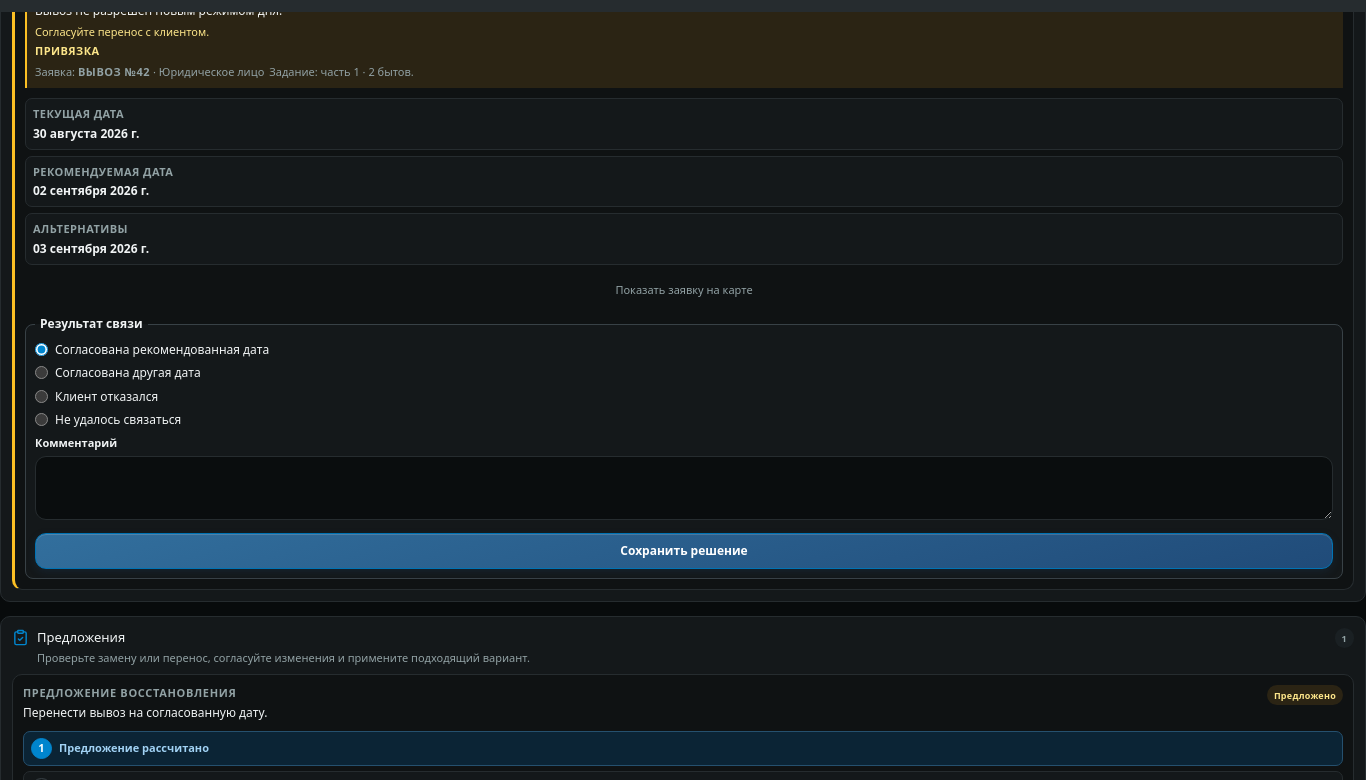
dispatcher decision queue › turns a rejection into a constraint and displays the refreshed proposal
(page scrolled)
Click the radio button labelled "Клиент отказался".
click(42, 396)  # box [35, 390, 48, 402]
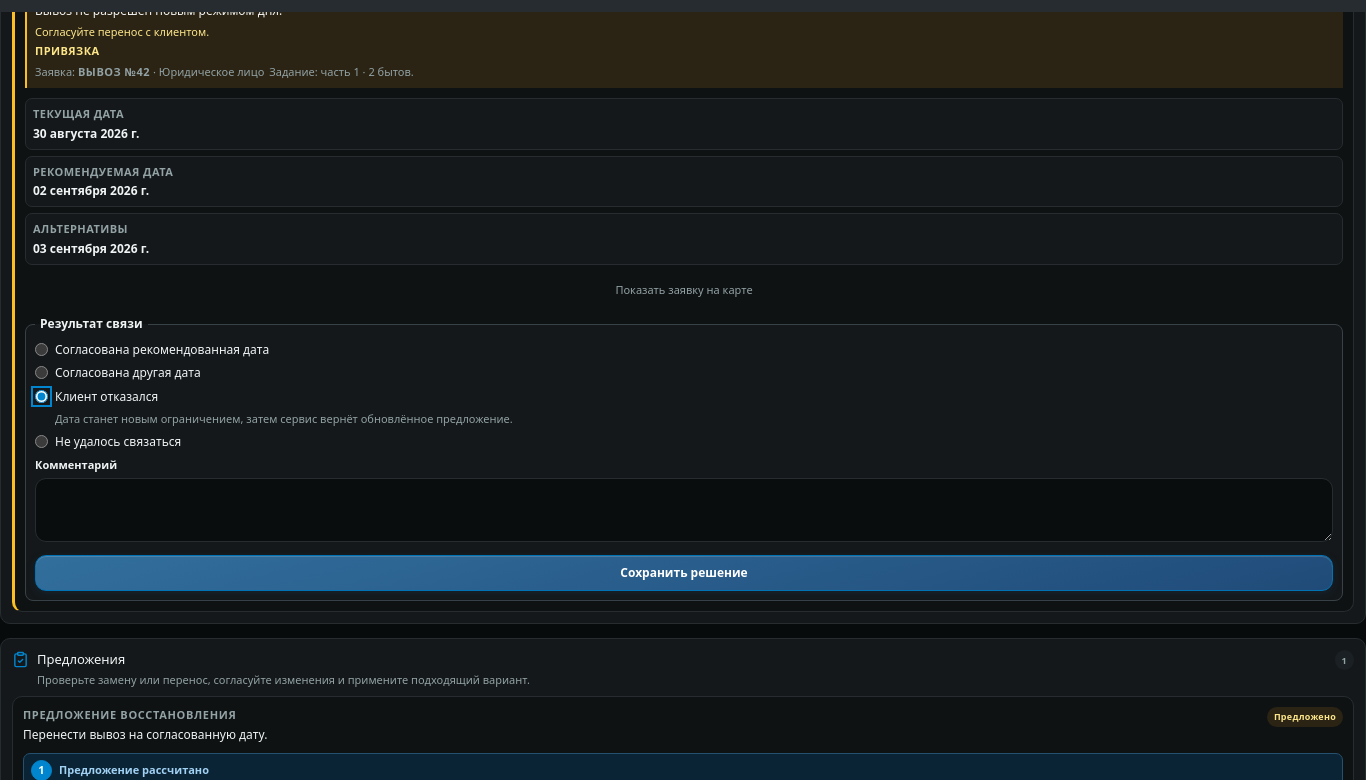
Expected: the text "новым ограничением" is shown, [55, 411, 513, 426]
Click the button "Сохранить решение".
click(684, 573)  # box [35, 555, 1333, 591]
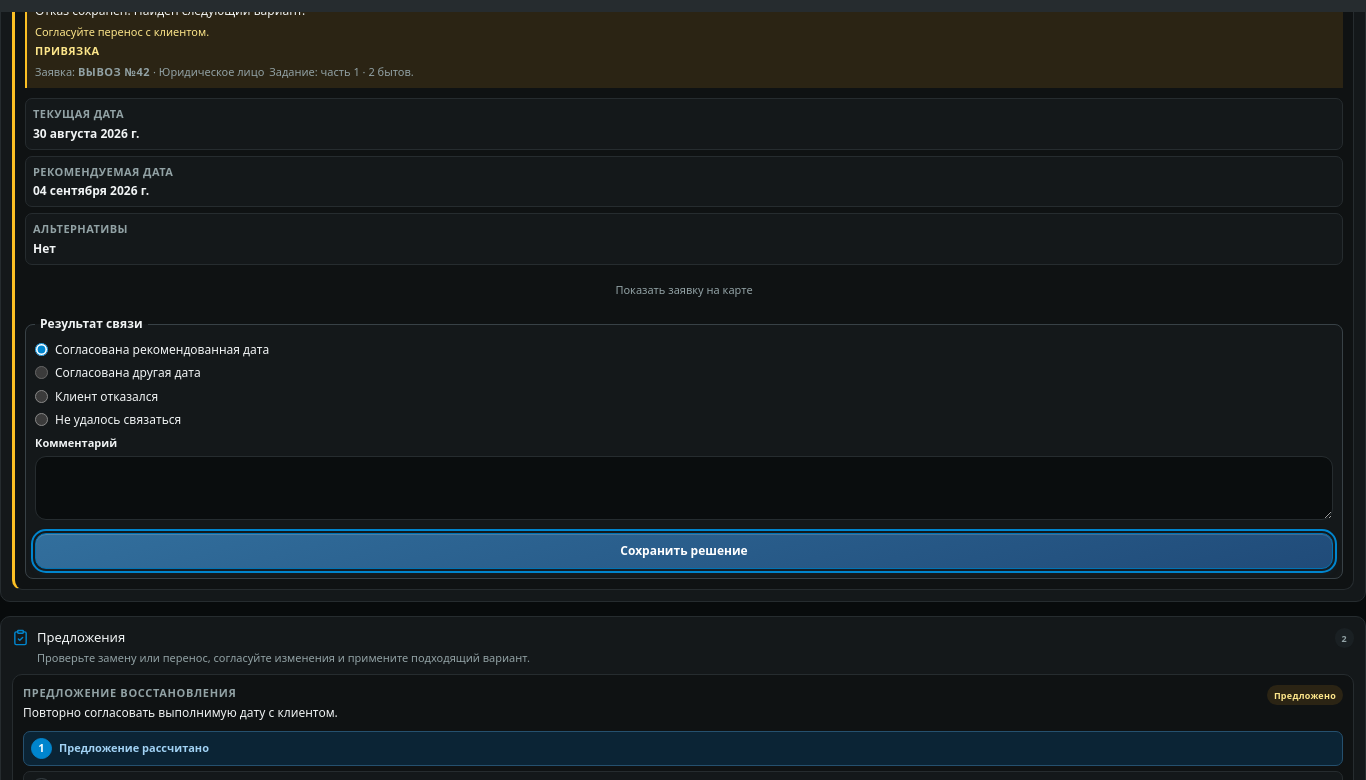
Expected: the text "04 сентября 2026 г." is shown, [33, 182, 149, 199]
Expected: the heading "Повторно согласовать выполнимую дату с клиентом." is shown, [23, 705, 338, 721]
